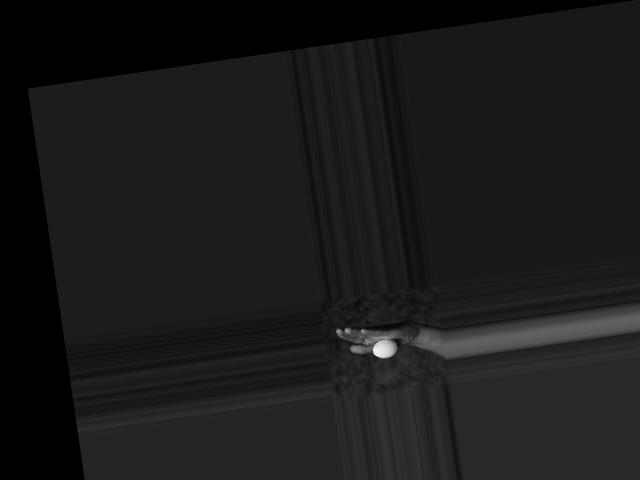egg: (372, 337, 399, 359)
